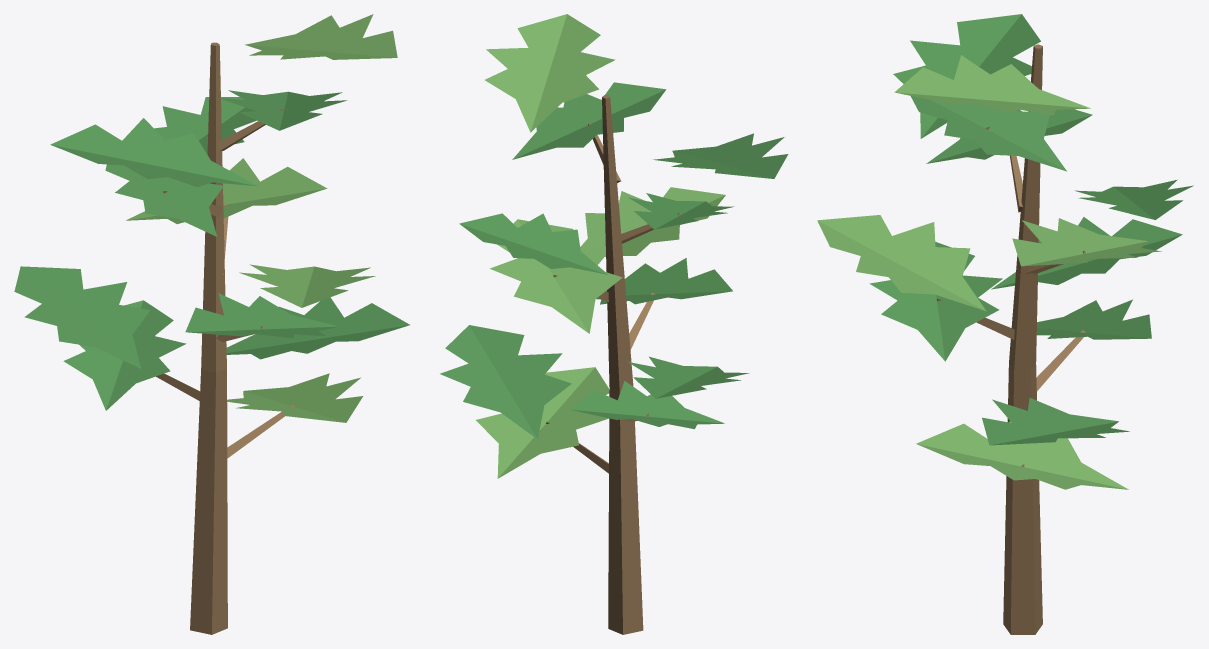
The model's file is oak_sapling_01.glb.
The picture shows the model from 3 angles, left to right: view 1: azimuth 30°, elevation 25°; view 2: azimuth 150°, elevation 25°; view 3: azimuth 270°, elevation 25°; orthographic projection. The views are drawn at different scales.
Parts seen in each view (by area): view 1: Oak_sapling_01; view 2: Oak_sapling_01; view 3: Oak_sapling_01.
Part boxes in pixels (x1,y1,x2,y2): Oak_sapling_01: [14, 14, 409, 634]; Oak_sapling_01: [440, 14, 788, 634]; Oak_sapling_01: [817, 14, 1193, 634].
Size of the model in its own units: 0.7418 by 1.2 by 0.6871.
